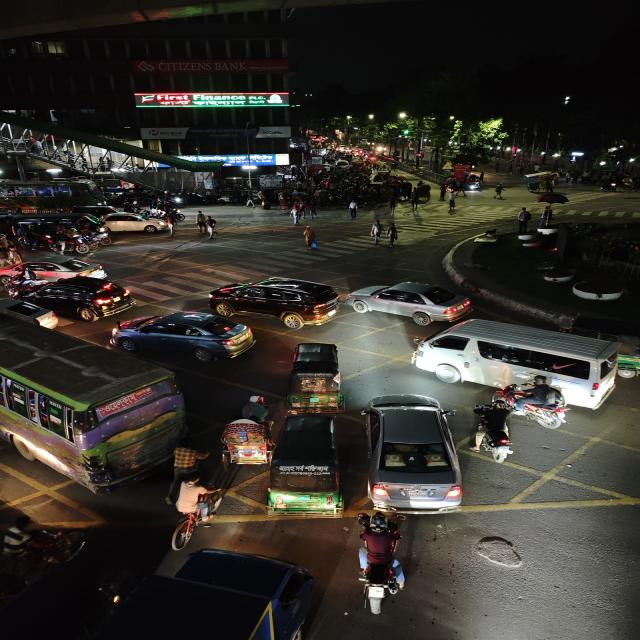bicycle: (167, 479, 223, 551)
bus: (0, 304, 186, 490), (360, 391, 465, 513)
car: (408, 318, 627, 399), (360, 392, 463, 514), (110, 309, 262, 363), (202, 274, 347, 330), (349, 276, 478, 326), (5, 274, 136, 320), (11, 256, 113, 280), (96, 205, 171, 236), (0, 294, 59, 330)
cng: (265, 414, 350, 518), (284, 338, 348, 416)
motorcycle: (349, 510, 410, 610), (502, 376, 575, 430), (469, 405, 516, 463), (48, 228, 88, 259)
pedestrian: (368, 217, 402, 246), (193, 211, 220, 240), (298, 224, 324, 252), (514, 207, 533, 235), (288, 200, 304, 227), (345, 197, 360, 220), (387, 190, 400, 215), (304, 198, 318, 220), (492, 183, 508, 201), (410, 189, 420, 212), (437, 182, 449, 201), (447, 192, 458, 212), (478, 171, 490, 186), (494, 162, 502, 174)
rickshaw: (214, 402, 276, 468)
truck: (103, 550, 330, 640)
